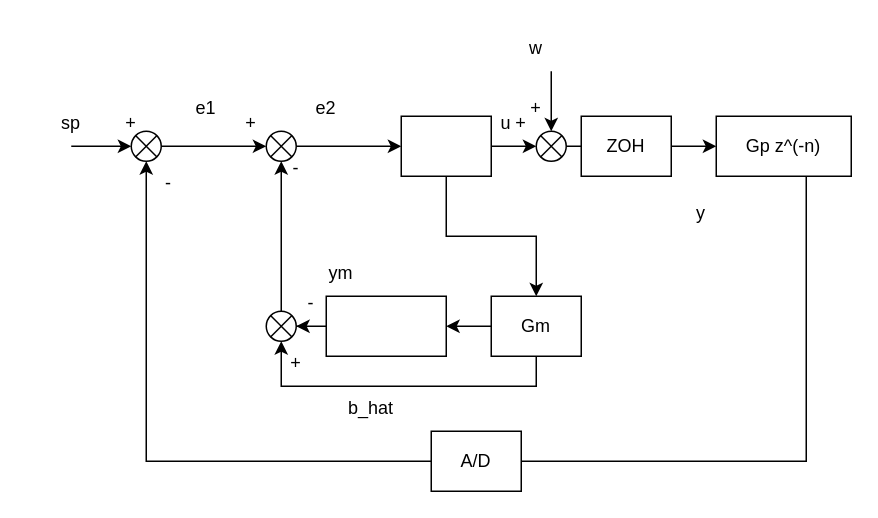
The diagram is 878 pixels wide and 518 high, and some of its shapes have lost their labels. Each missing label, with the centre of its shape:
"Gc" belongs at point (445, 145).
"z^(-n)" belongs at point (385, 325).
